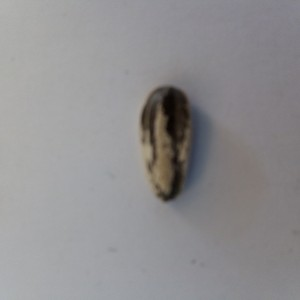girasol: (133, 79, 197, 206)
